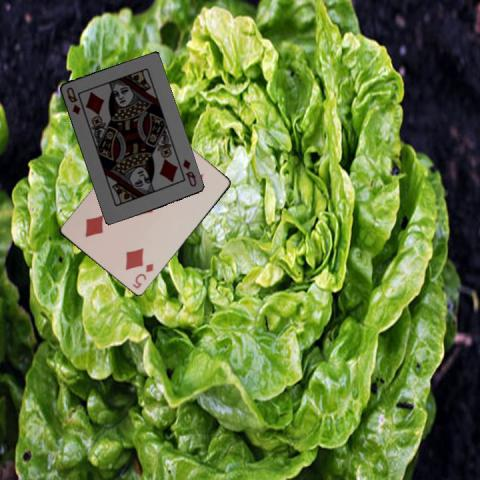5d: (129, 260, 155, 290)
Qd: (63, 84, 82, 116), (180, 156, 198, 188)
